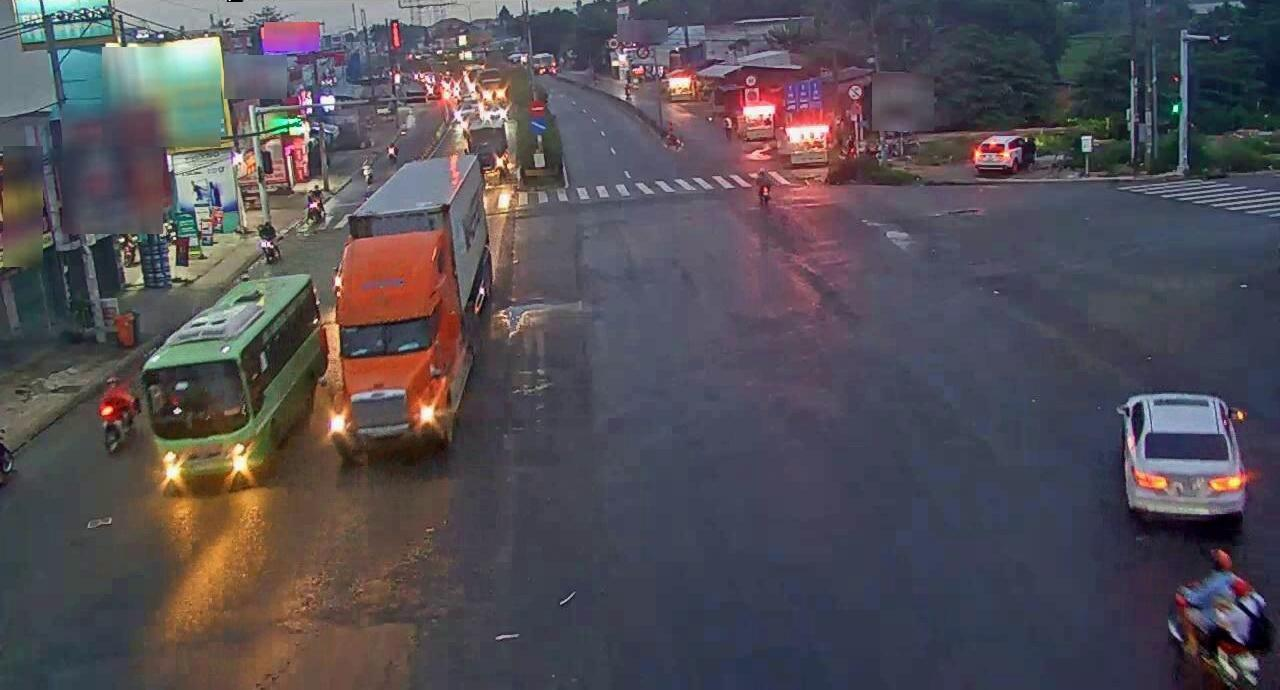xe buyt: (146, 273, 328, 486)
xe container: (331, 157, 499, 461)
xe may: (98, 374, 138, 451)
